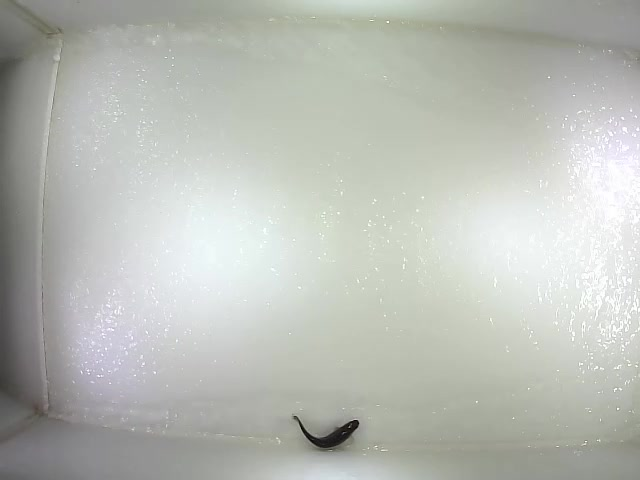fish: (290, 410, 361, 450)
